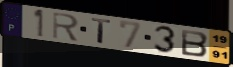1: (32, 9, 45, 40)
3: (151, 25, 180, 55)
7: (118, 19, 145, 50)
B: (180, 28, 210, 58)
R: (51, 11, 81, 43)
T: (90, 17, 113, 46)
